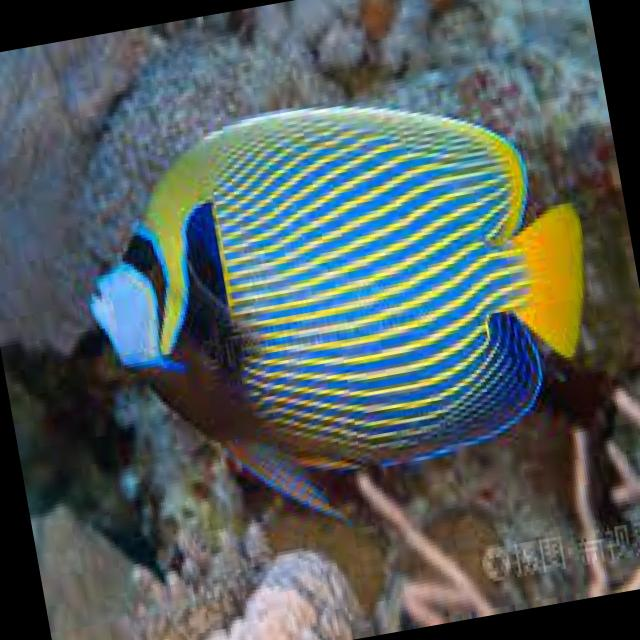AngelFish: (66, 63, 623, 556)
